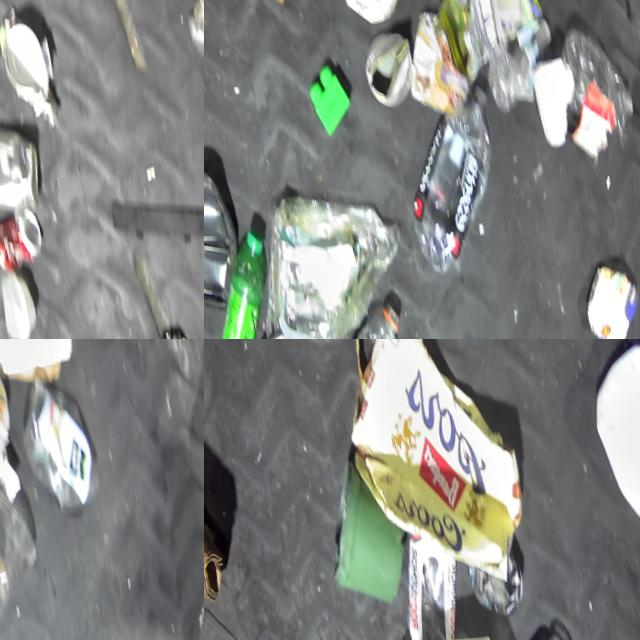can: (575, 259, 640, 339), (463, 544, 528, 622), (358, 28, 418, 109), (0, 121, 46, 221), (0, 15, 52, 102), (0, 203, 46, 274)
non_white_jug: (250, 180, 416, 339)
plastic_bottle: (388, 83, 517, 281), (552, 18, 636, 138), (478, 14, 563, 115), (326, 295, 414, 339), (179, 0, 204, 142)
